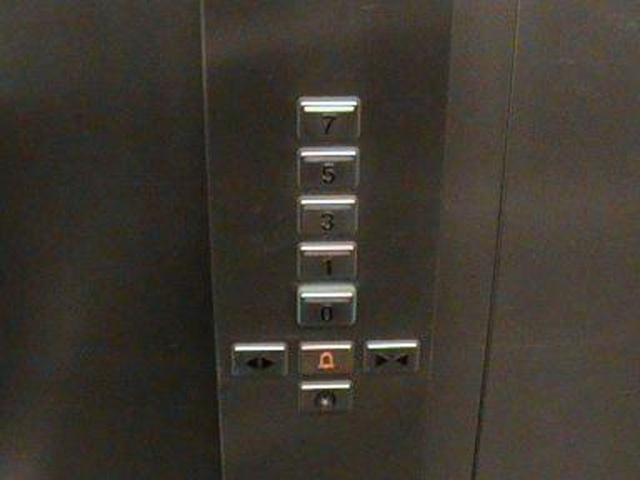0: (295, 284, 359, 327)
1: (295, 242, 359, 280)
3: (296, 195, 359, 238)
5: (297, 148, 359, 192)
7: (296, 95, 362, 143)
alarm: (296, 339, 355, 377)
bt_keyhole: (297, 380, 355, 417)
close: (362, 338, 423, 378)
open: (230, 341, 288, 380)
